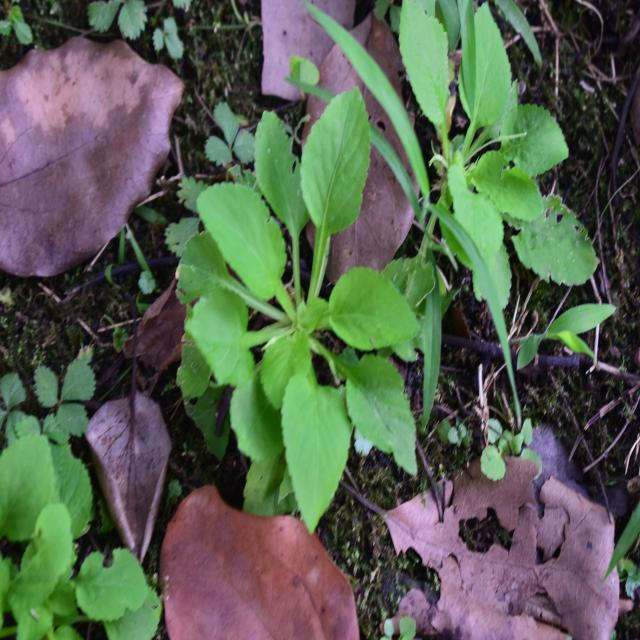Viola: (193, 94, 446, 514)
